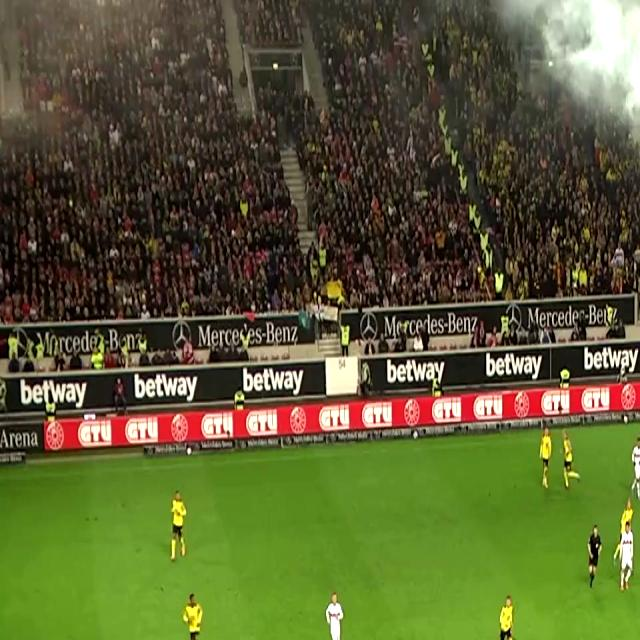referee: (580, 524, 608, 596)
soccer-player: (166, 491, 198, 570), (611, 523, 640, 601), (318, 586, 358, 640), (536, 428, 566, 499), (555, 430, 585, 497), (483, 588, 521, 640), (177, 590, 214, 640), (625, 432, 640, 502)
